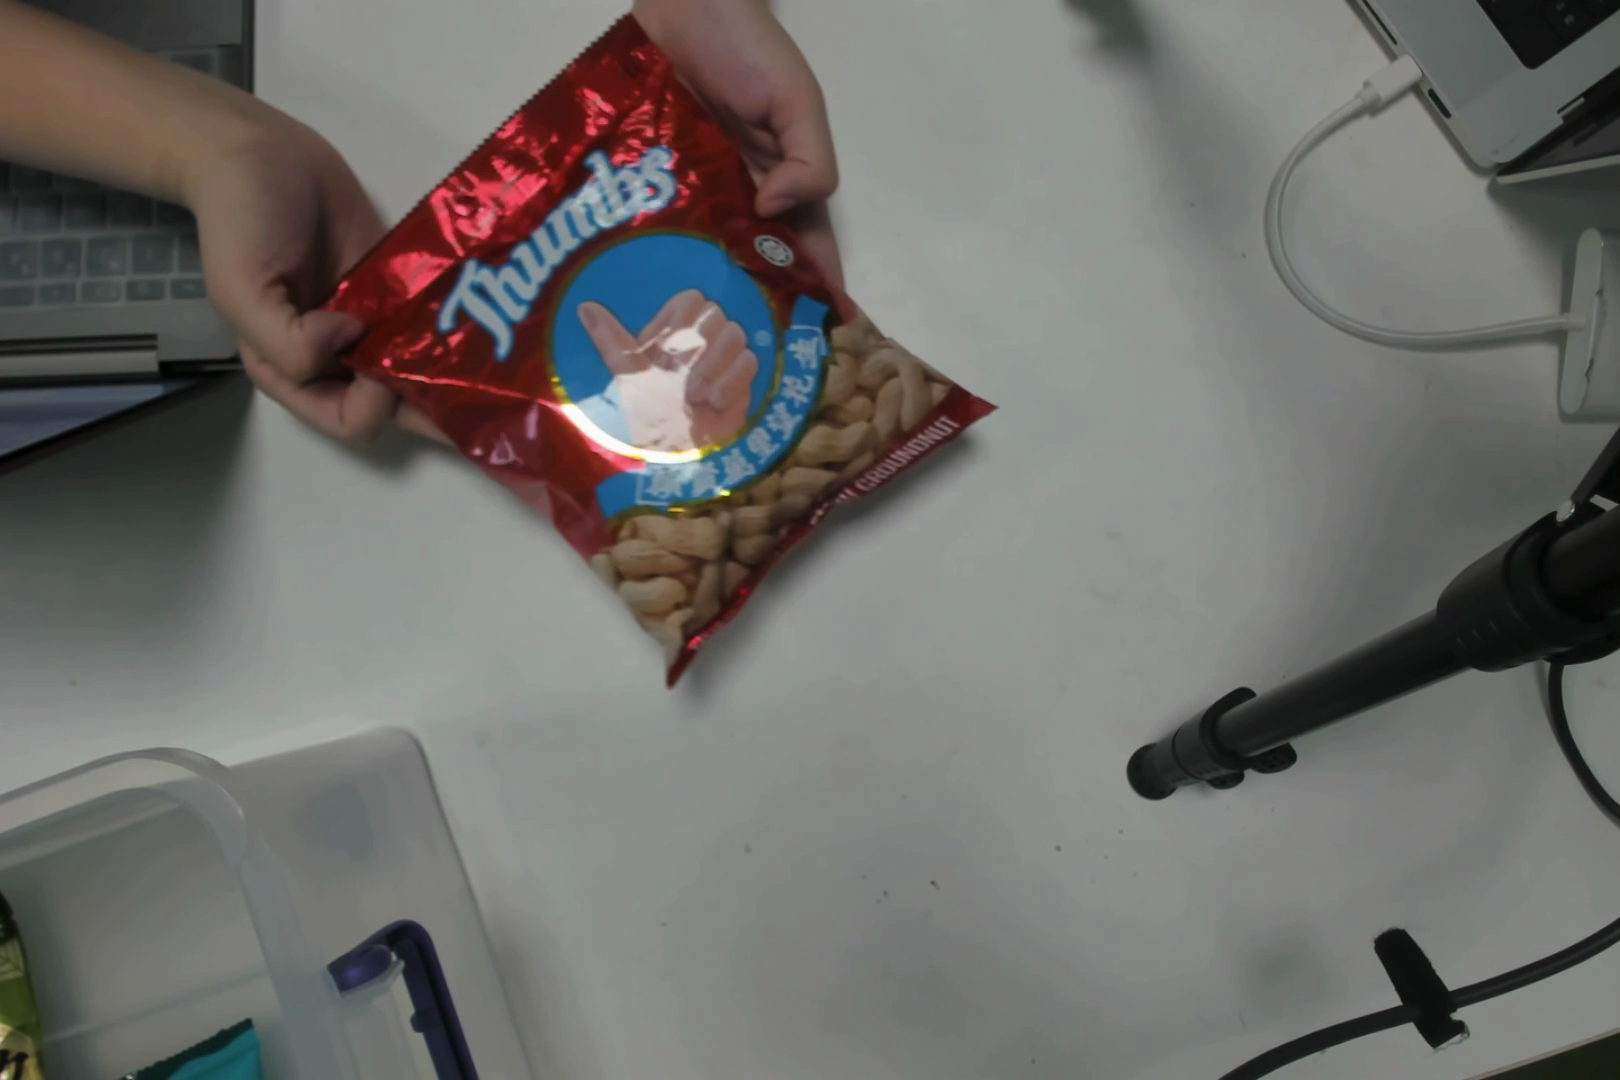Nuts_100-199g_Halal_NonHealthy: (442, 112, 906, 614)
